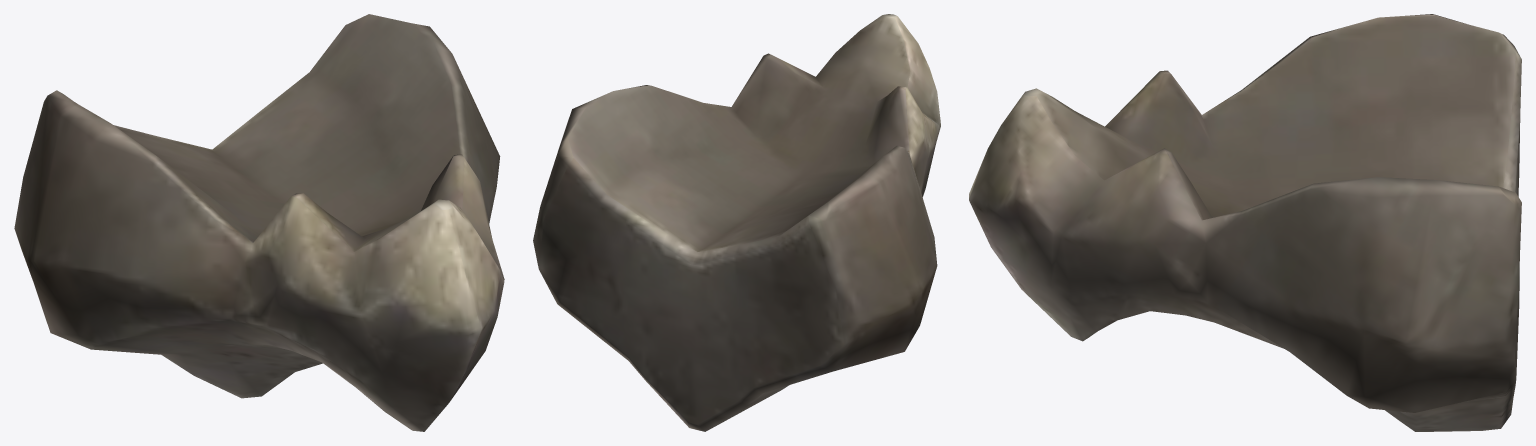
3 renders of one model, left to right at view 1: azimuth 30°, elevation 25°; view 2: azimuth 150°, elevation 25°; view 3: azimuth 270°, elevation 25°, orthographic. The views are drawn at different scales.
Parts seen in each view (by area): view 1: SM_Dragonkin_Gargoyles_01v2_LOD0; view 2: SM_Dragonkin_Gargoyles_01v2_LOD0; view 3: SM_Dragonkin_Gargoyles_01v2_LOD0.
Part boxes in pixels (x1=…): SM_Dragonkin_Gargoyles_01v2_LOD0: x1=14, y1=14, x2=504, y2=431; SM_Dragonkin_Gargoyles_01v2_LOD0: x1=533, y1=14, x2=940, y2=431; SM_Dragonkin_Gargoyles_01v2_LOD0: x1=969, y1=14, x2=1521, y2=431.
Size of the model in its own units: 0.4589 by 0.3262 by 0.4841.
1 material, 1 textured.
